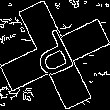P_SE: (27, 24, 83, 86)
